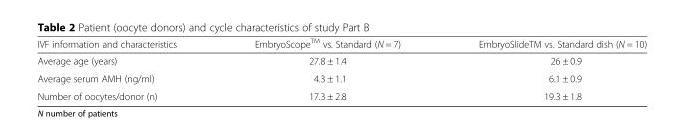table: (36, 36, 646, 101)
table column: (214, 36, 438, 101), (438, 36, 646, 101), (36, 36, 214, 101)
table column header: (36, 36, 646, 52)
table row: (36, 52, 646, 69), (36, 69, 646, 86), (36, 36, 646, 52), (36, 86, 646, 101)
